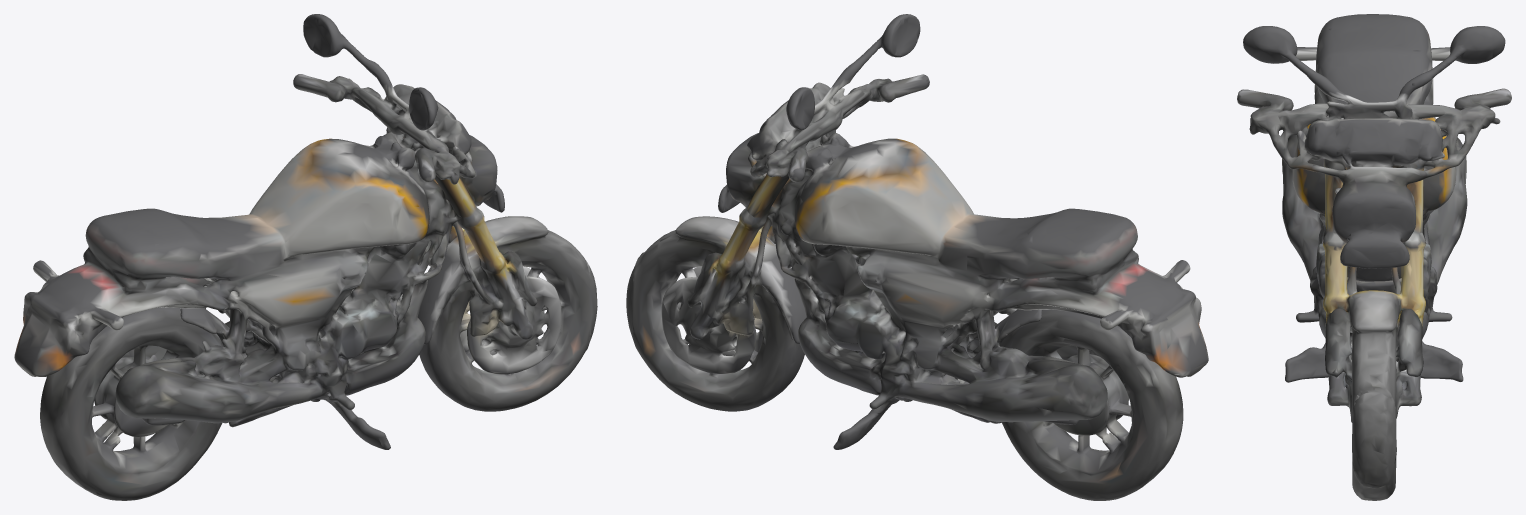
File: ronin.v1.glb
The picture shows the model from 3 angles, left to right: view 1: azimuth 30°, elevation 25°; view 2: azimuth 150°, elevation 25°; view 3: azimuth 270°, elevation 25°; orthographic projection. The views are drawn at different scales.
Visible parts, largest first — view 1: geometry_0; view 2: geometry_0; view 3: geometry_0.
Boxes of the visible parts, x1,y1,x2,y2 form: geometry_0: [14, 14, 597, 500]; geometry_0: [626, 14, 1208, 500]; geometry_0: [1237, 14, 1511, 500].
Size of the model in its own units: 2.04 by 1.32 by 0.8313.
